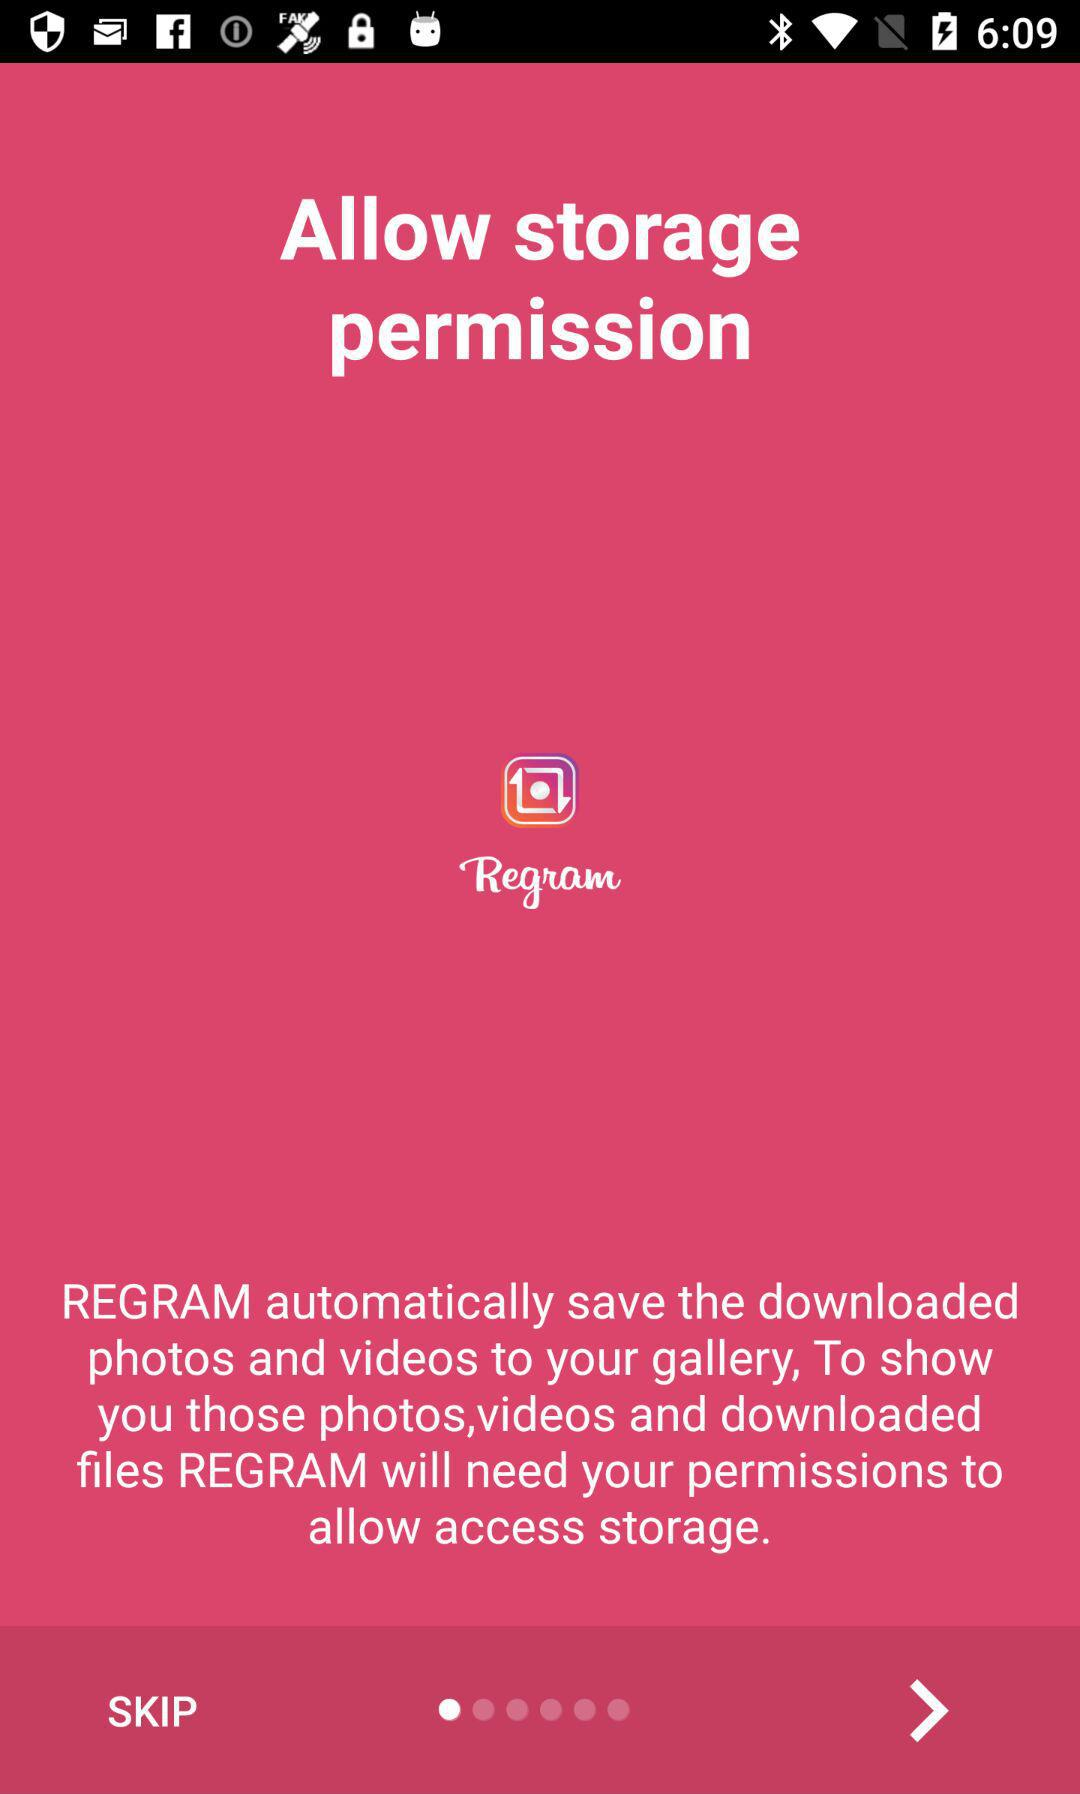Icon: (908, 1677, 951, 1744)
Image: (457, 752, 623, 911)
PageIndicator: (437, 1697, 632, 1724)
Text: (64, 1281, 1019, 1556), (279, 196, 799, 379), (108, 1694, 199, 1729)
UpperTaskBar: (1, 1, 1080, 64)
